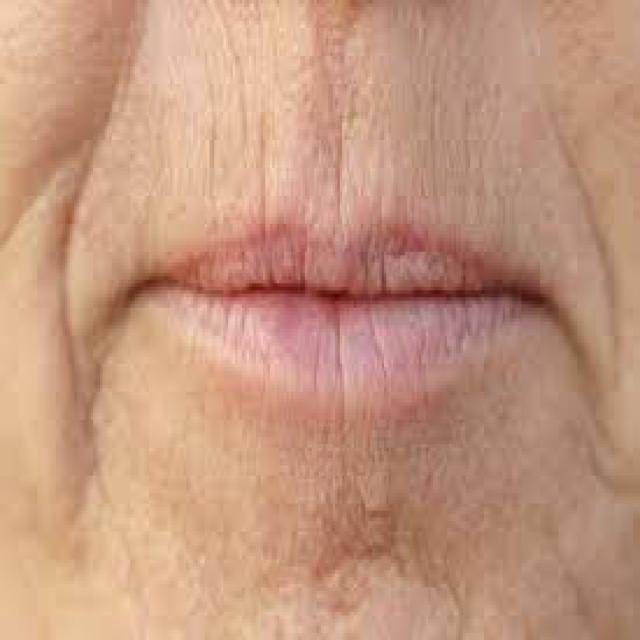Wrinkles: (0, 7, 151, 625), (544, 78, 625, 397), (582, 426, 636, 501)
